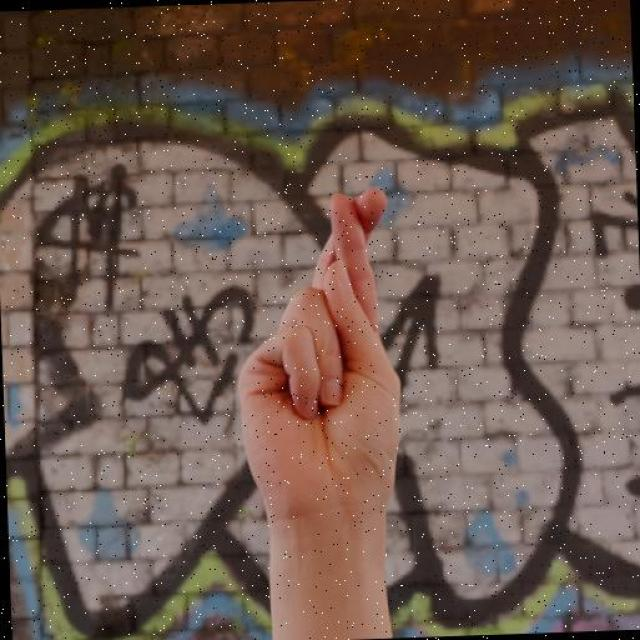R: (223, 180, 412, 538)
